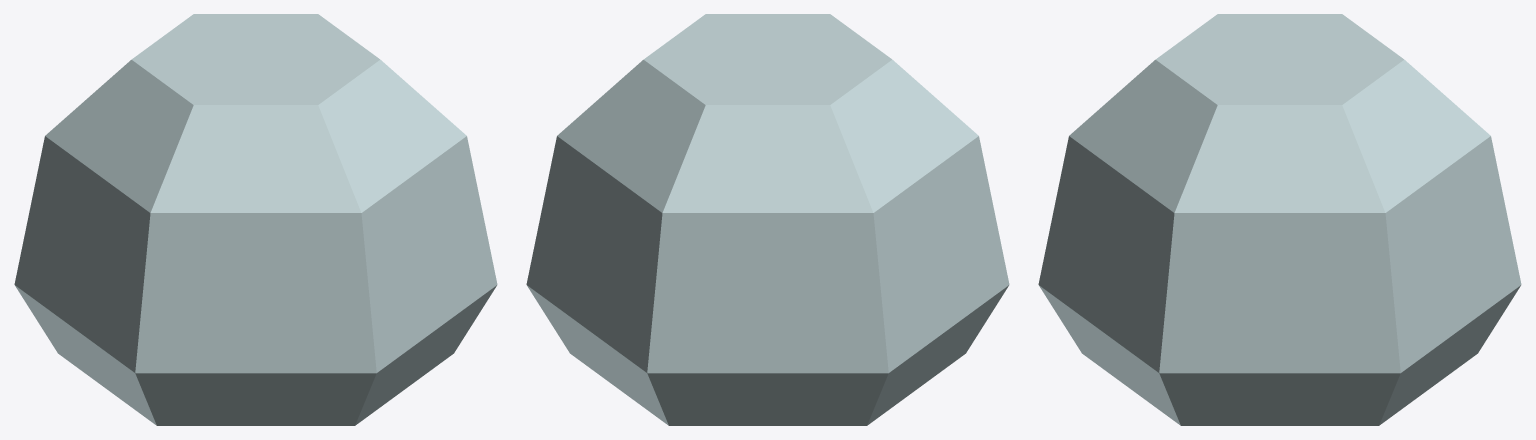
The model's file is stone_smallI.glb.
3 renders of one model, left to right at view 1: azimuth 30°, elevation 25°; view 2: azimuth 150°, elevation 25°; view 3: azimuth 270°, elevation 25°, orthographic.
Visible parts, largest first — view 1: stone_smallI; view 2: stone_smallI; view 3: stone_smallI.
Boxes of the visible parts, x1=… form: stone_smallI: x1=14, y1=14, x2=497, y2=425; stone_smallI: x1=526, y1=14, x2=1009, y2=425; stone_smallI: x1=1038, y1=14, x2=1521, y2=425.
Bounding box in the file's own units: 0.3583 × 0.2778 × 0.4138.
